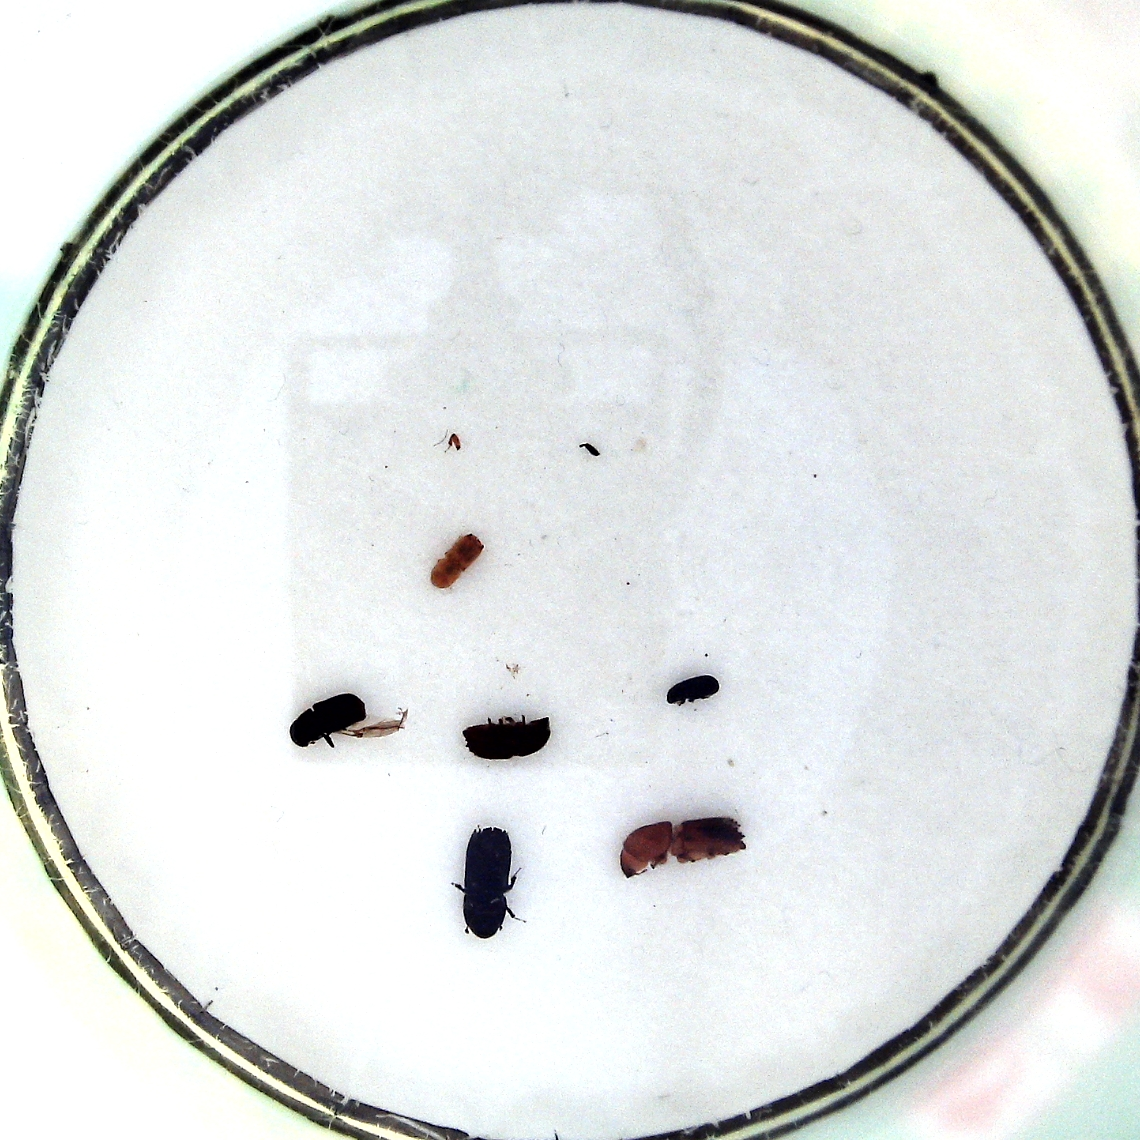Boerner: (614, 811, 749, 879), (458, 825, 521, 940)
Linnaeus: (455, 714, 553, 761)
acuminatus: (427, 530, 486, 591)
armandi: (284, 693, 373, 752)
coleoptera: (662, 670, 722, 707)
